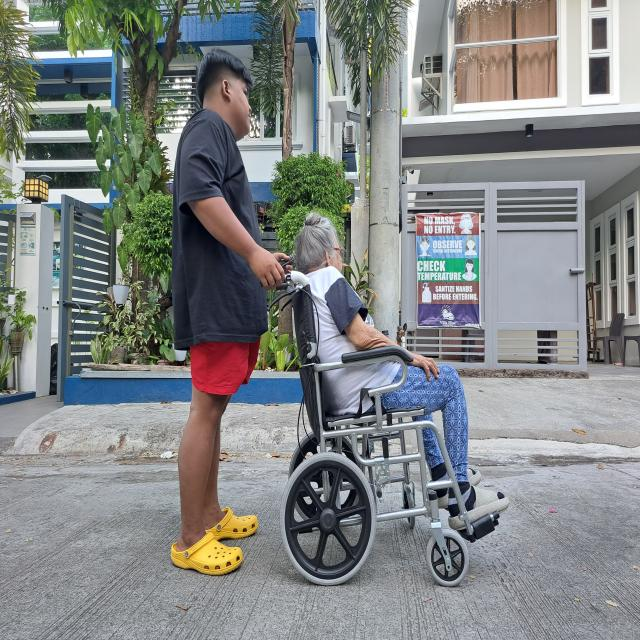wheelchairs: (264, 259, 501, 596)
